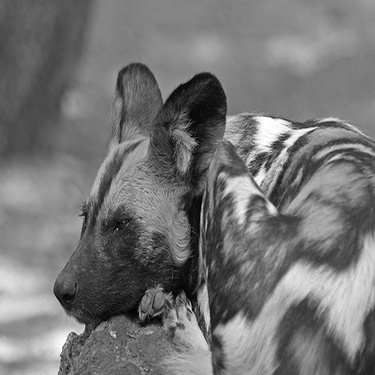dog: (38, 39, 372, 374)
